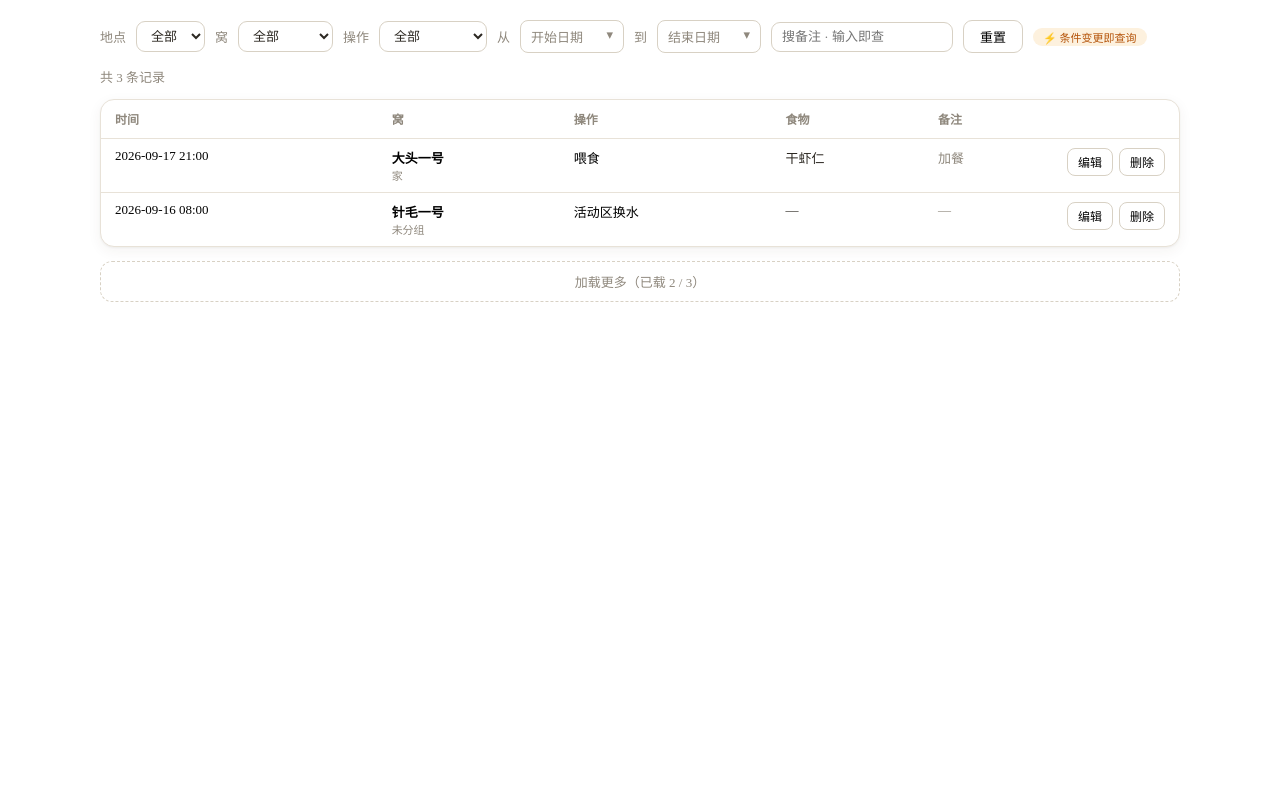
it: 记录列表页（票 08） › 编辑失败：弹窗保持并展示原因，不误刷列表
Click the button "编辑" in the row of "2026-09-17 21:00". click: (1090, 162)
box: [1067, 148, 1113, 176]
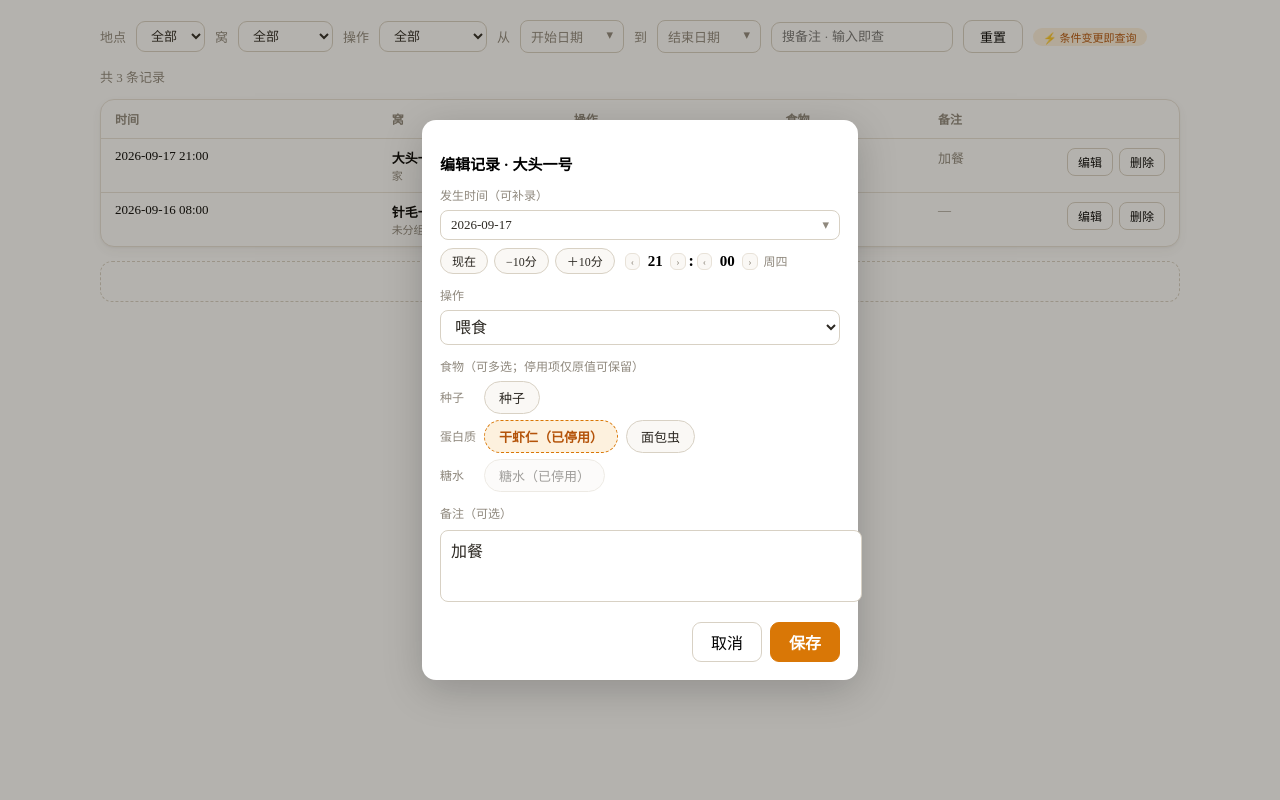
Click the button with class "save-btn". click: (805, 642)
box: [770, 622, 840, 662]
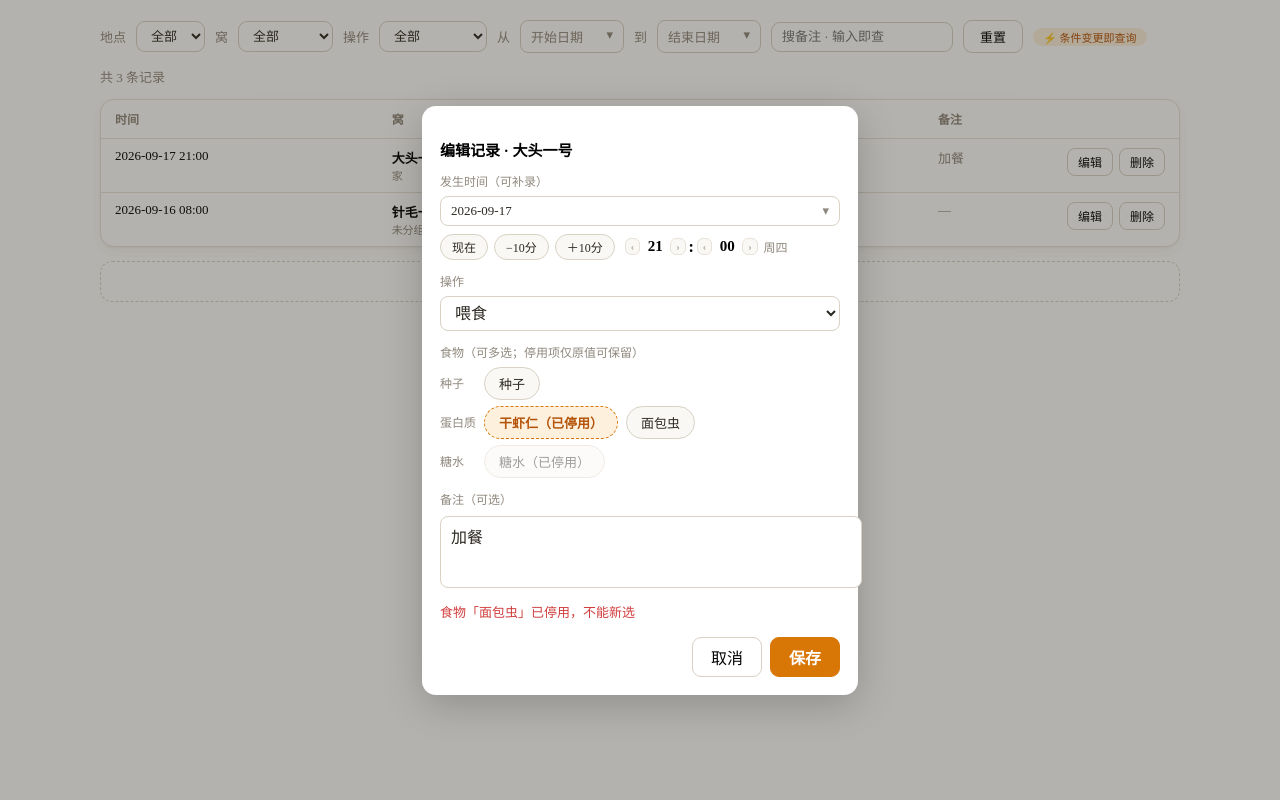
Now the element with class "edit-dialog" is shown, box [422, 106, 858, 694]
Now the text with class "form-error" shows "已停用", box [440, 604, 635, 620]
